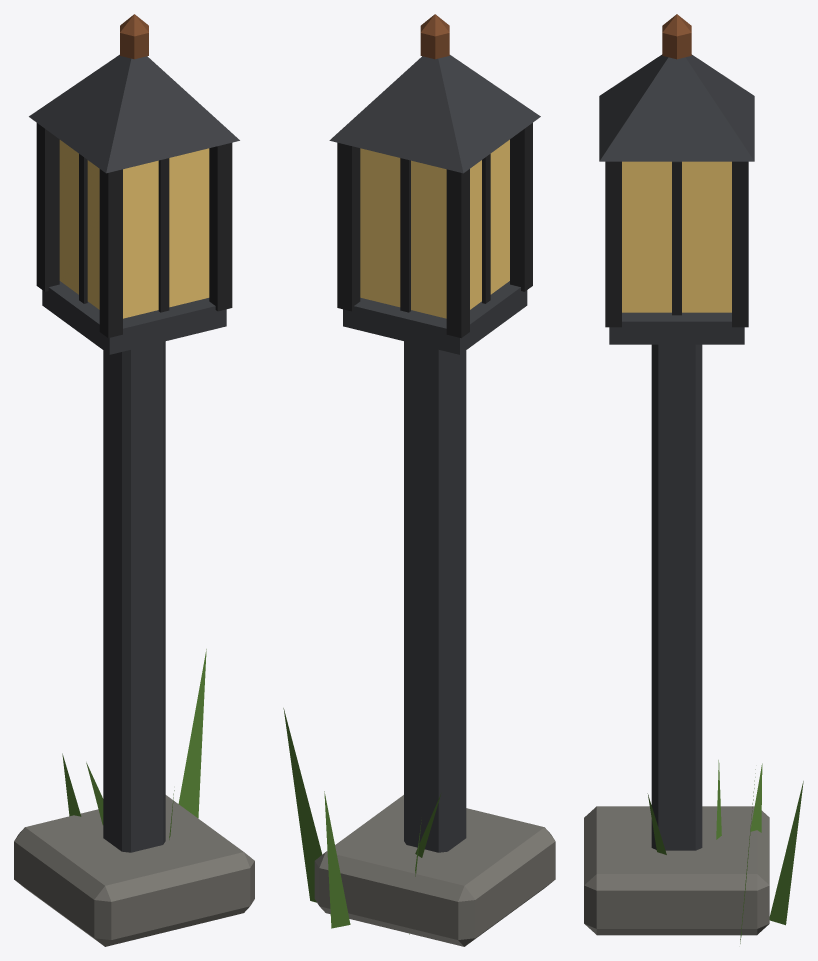
Rendered from GardenLamp.fbx.
3 views of the same model, side by side, from view 1: azimuth 30°, elevation 25°; view 2: azimuth 150°, elevation 25°; view 3: azimuth 270°, elevation 25° (orthographic).
Visible parts, largest first — view 1: GardenLamp; view 2: GardenLamp; view 3: GardenLamp.
Boxes of the visible parts, x1=… form: GardenLamp: x1=14, y1=14, x2=254, y2=946; GardenLamp: x1=283, y1=14, x2=555, y2=946; GardenLamp: x1=584, y1=14, x2=803, y2=943.
Bounding box in the file's own units: 0.2632 × 1.16 × 0.2603.
1 material, 1 textured.
